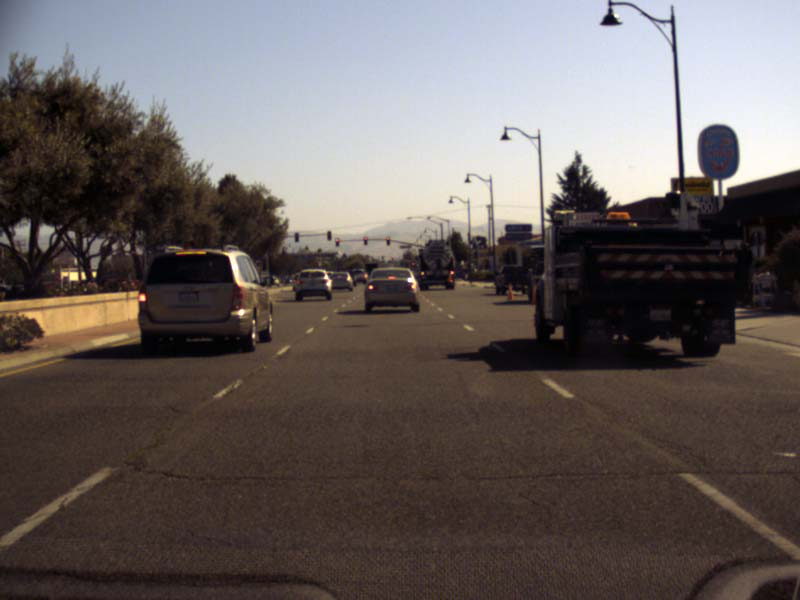Red: (363, 236, 366, 244), (335, 238, 338, 245), (386, 237, 389, 244), (411, 262, 414, 265)
